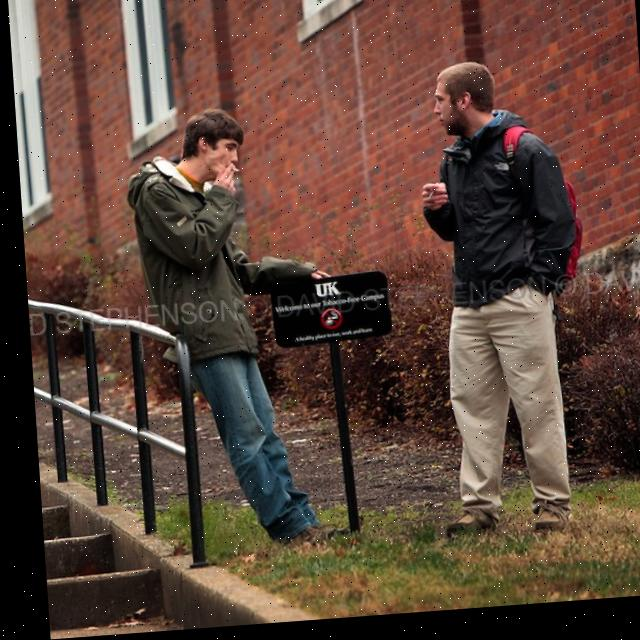cigarette: (425, 189, 436, 204), (230, 172, 238, 176)
